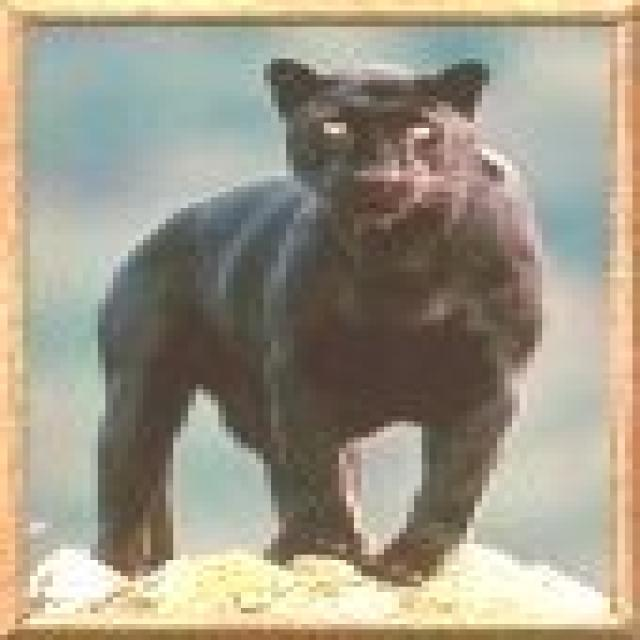Leopard: (60, 11, 557, 576)
